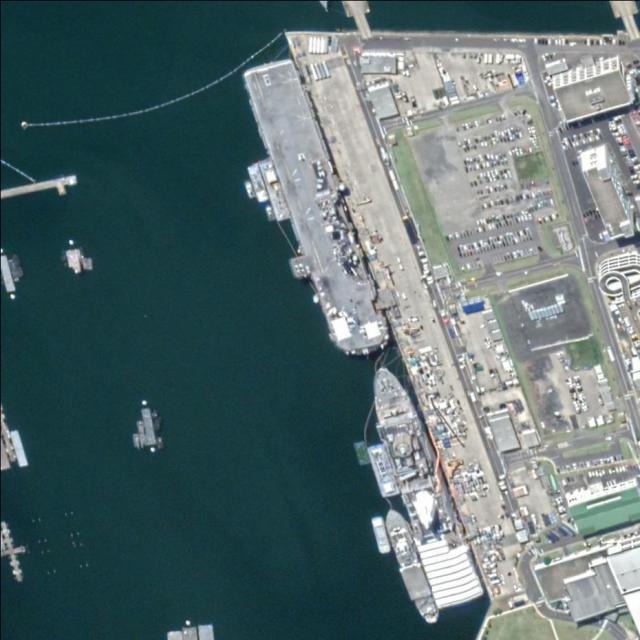Landing: (237, 53, 393, 359)
Other Warship: (355, 360, 487, 610), (378, 503, 443, 628)
